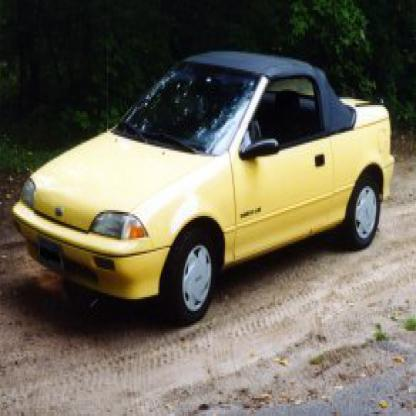car: (14, 57, 393, 325)
